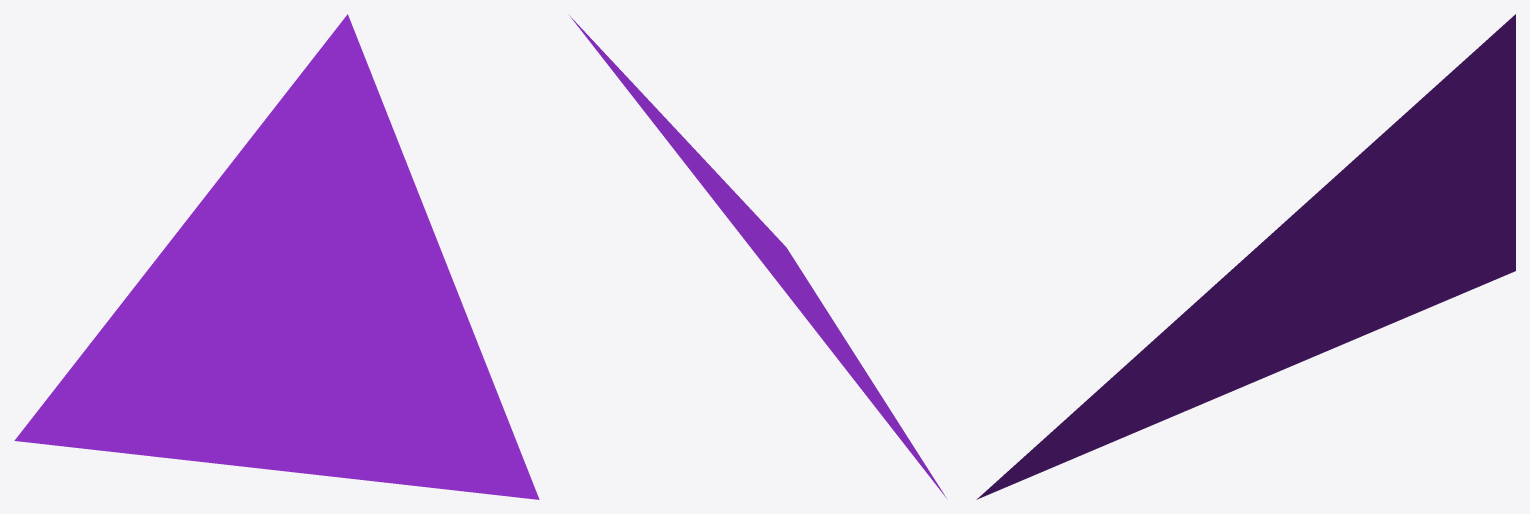
File: площина.gltf
3 views of the same model, side by side, from view 1: azimuth 30°, elevation 25°; view 2: azimuth 150°, elevation 25°; view 3: azimuth 270°, elevation 25° (orthographic). The views are drawn at different scales.
Parts seen in each view (by area): view 1: площина; view 2: площина; view 3: площина.
Boxes of the visible parts, left/top/right/bottom form: площина: left=14, top=14, right=539, bottom=499; площина: left=569, top=15, right=946, bottom=498; площина: left=976, top=14, right=1515, bottom=499.
Bounding box in the file's own units: 1.01 × 1 × 1.01.
